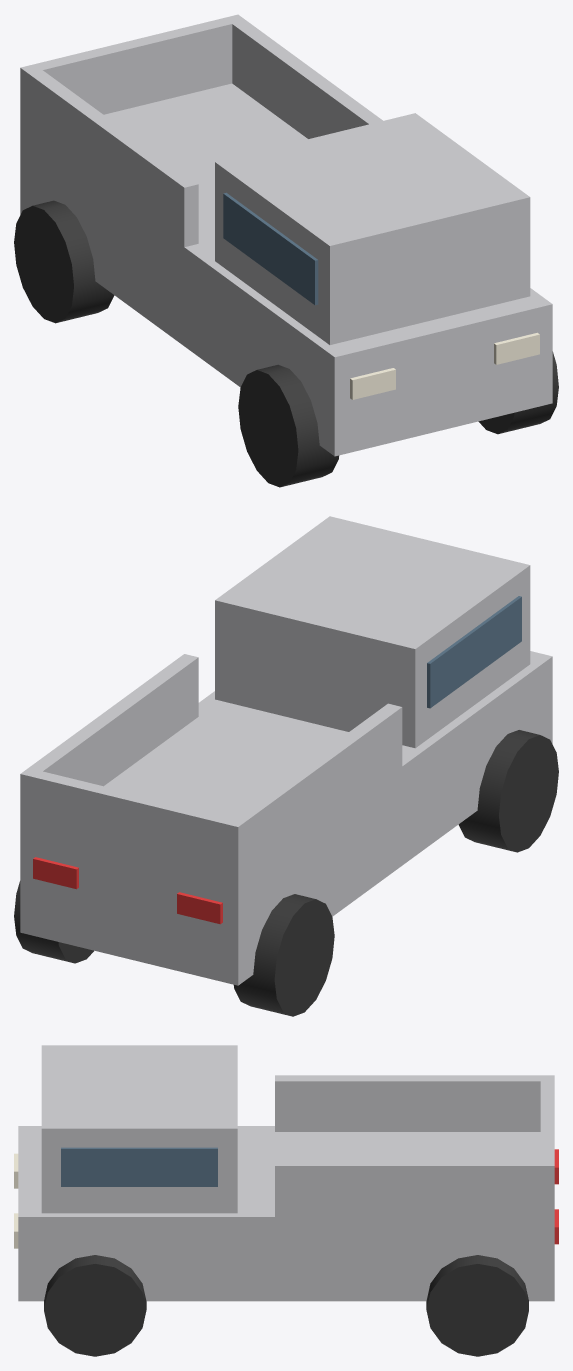
The model's file is picape.glb.
The picture shows the model from 3 angles, top to bottom: view 1: azimuth 30°, elevation 25°; view 2: azimuth 150°, elevation 25°; view 3: azimuth 270°, elevation 25°; orthographic projection. The views are drawn at different scales.
Visible parts, largest first — view 1: picape; view 2: picape; view 3: picape.
Part boxes in pixels (<box>): picape: <box>14,14,558,487</box>; picape: <box>14,516,558,1016</box>; picape: <box>14,1045,558,1356</box>.
Size of the model in its own units: 0.55 by 0.51 by 1.17.
